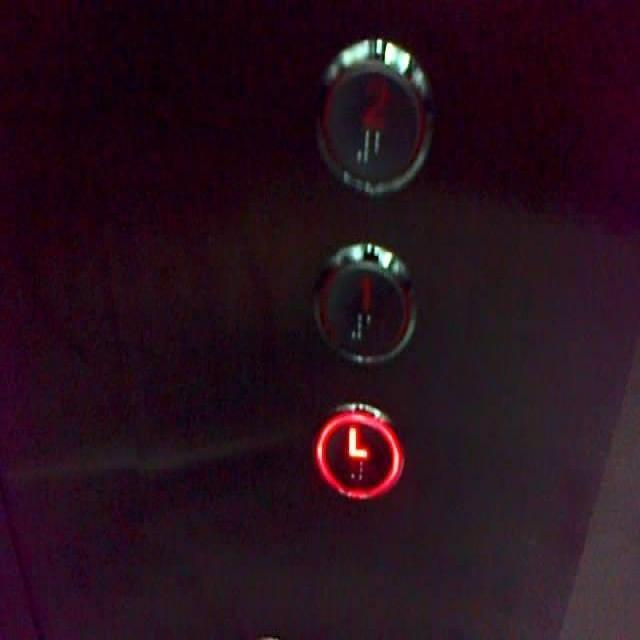1: (308, 240, 419, 367)
2: (313, 36, 437, 196)
L: (310, 397, 406, 504)
